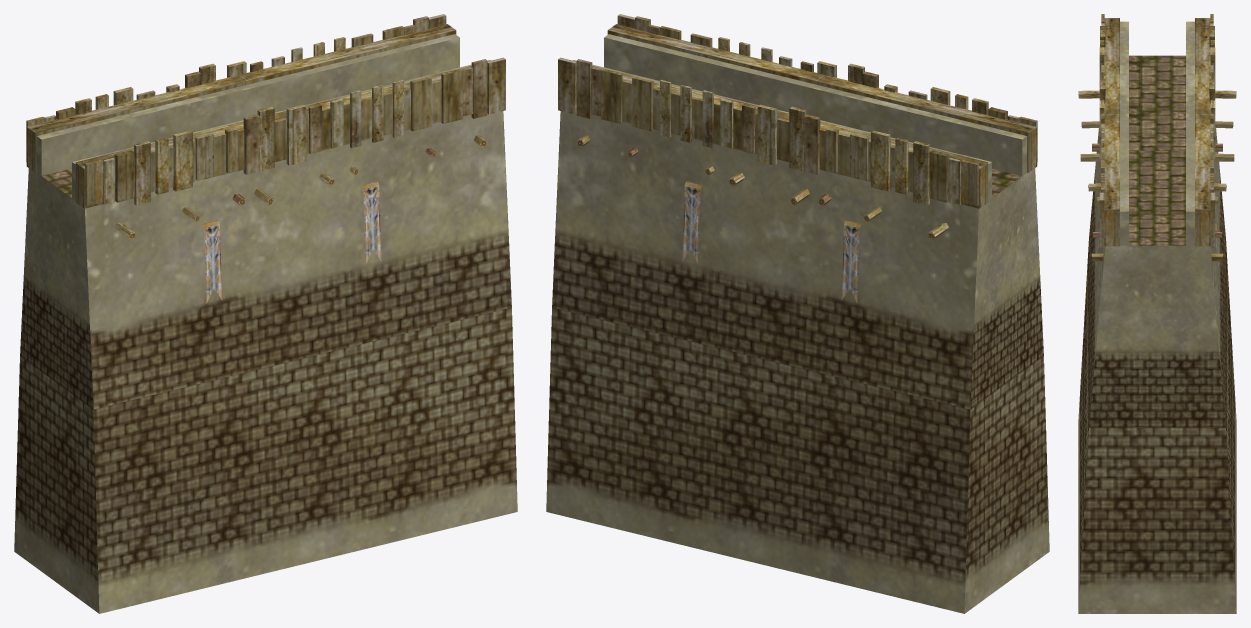
File: s_iberians_wall_medium.glb
3 views of the same model, side by side, from view 1: azimuth 30°, elevation 25°; view 2: azimuth 150°, elevation 25°; view 3: azimuth 270°, elevation 25° (orthographic). The views are drawn at different scales.
Parts seen in each view (by area): view 1: s_iberians_wall_medium_part0; view 2: s_iberians_wall_medium_part0; view 3: s_iberians_wall_medium_part0.
Boxes of the visible parts, bbox=[...] form: s_iberians_wall_medium_part0: bbox=[14, 14, 517, 613]; s_iberians_wall_medium_part0: bbox=[546, 14, 1049, 613]; s_iberians_wall_medium_part0: bbox=[1078, 14, 1236, 613].
Bounding box in the file's own units: 6.04 × 6.18 × 2.11.
Materials: 1 (1 with a texture image).
